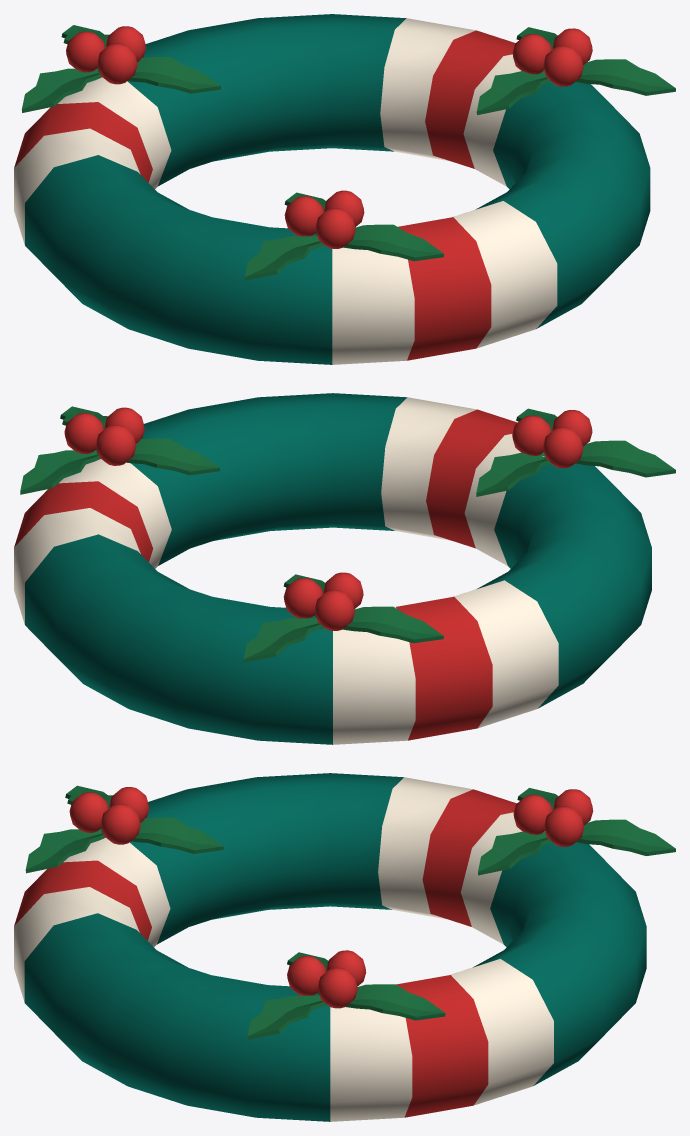
The model's file is flower.fbx.
3 views of the same model, one above another, from view 1: azimuth 30°, elevation 25°; view 2: azimuth 150°, elevation 25°; view 3: azimuth 270°, elevation 25° (orthographic).
Visible parts, largest first — view 1: flower; view 2: flower; view 3: flower.
Boxes of the visible parts, x1=… form: flower: x1=14, y1=14, x2=675, y2=364; flower: x1=14, y1=393, x2=675, y2=744; flower: x1=14, y1=773, x2=675, y2=1121.
Bounding box in the file's own units: 23.13 × 6.04 × 23.09.
